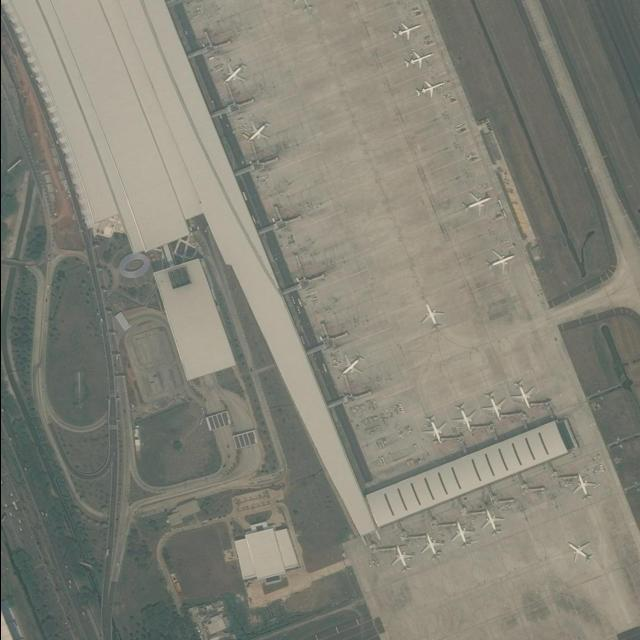Aircraft: (487, 244, 520, 272), (565, 539, 597, 564), (245, 115, 270, 147), (464, 189, 494, 215), (455, 402, 479, 432), (424, 416, 448, 445), (340, 351, 364, 379), (222, 60, 246, 86), (573, 474, 597, 500), (513, 381, 536, 408), (421, 302, 443, 330), (404, 47, 433, 68), (393, 19, 423, 39), (452, 519, 474, 546), (482, 507, 503, 535), (483, 392, 505, 418), (391, 546, 413, 571), (415, 78, 443, 97), (423, 533, 442, 558), (292, 0, 316, 14)
